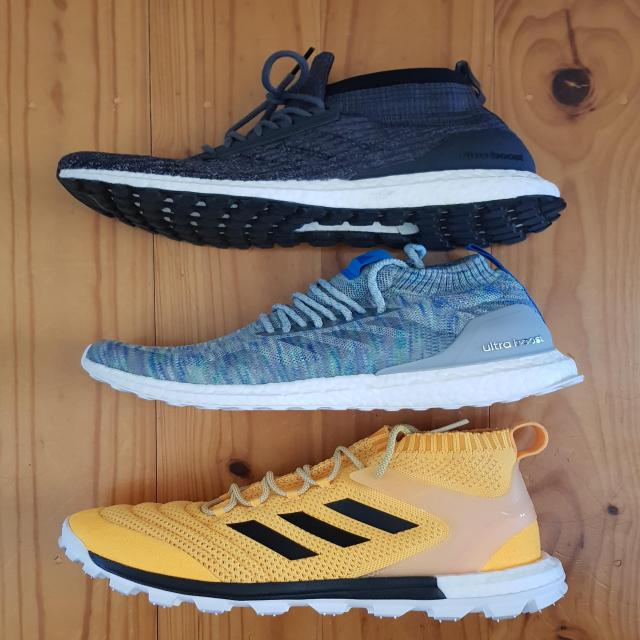shoe: (26, 404, 640, 640), (0, 282, 640, 426), (69, 54, 610, 208)
